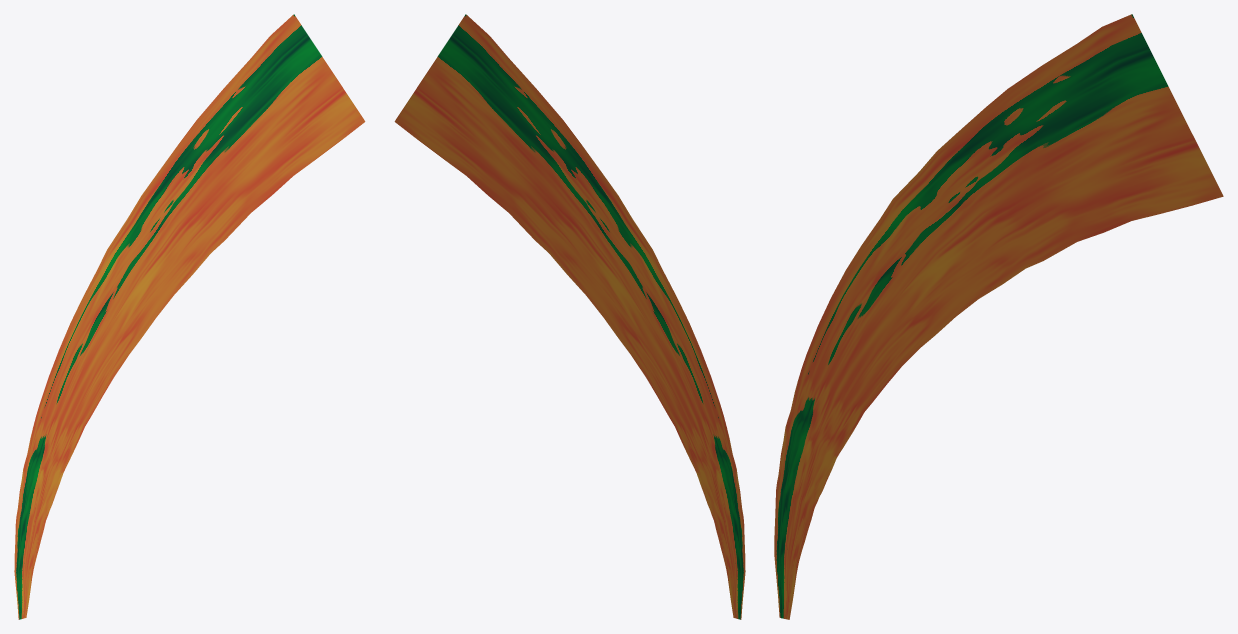
File: p_trashbot_start_sprinkler04.fbx
3 renders of one model, left to right at view 1: azimuth 30°, elevation 25°; view 2: azimuth 150°, elevation 25°; view 3: azimuth 330°, elevation 25°, orthographic. The views are drawn at different scales.
Parts seen in each view (by area): view 1: p_sprinkler_start_plane_04; view 2: p_sprinkler_start_plane_04; view 3: p_sprinkler_start_plane_04.
Boxes of the visible parts, x1,y1,x2,y2 form: p_sprinkler_start_plane_04: [14, 14, 365, 619]; p_sprinkler_start_plane_04: [394, 14, 745, 619]; p_sprinkler_start_plane_04: [774, 14, 1223, 619].
Bounding box in the file's own units: 18.41 × 27 × 8.25e-06.
